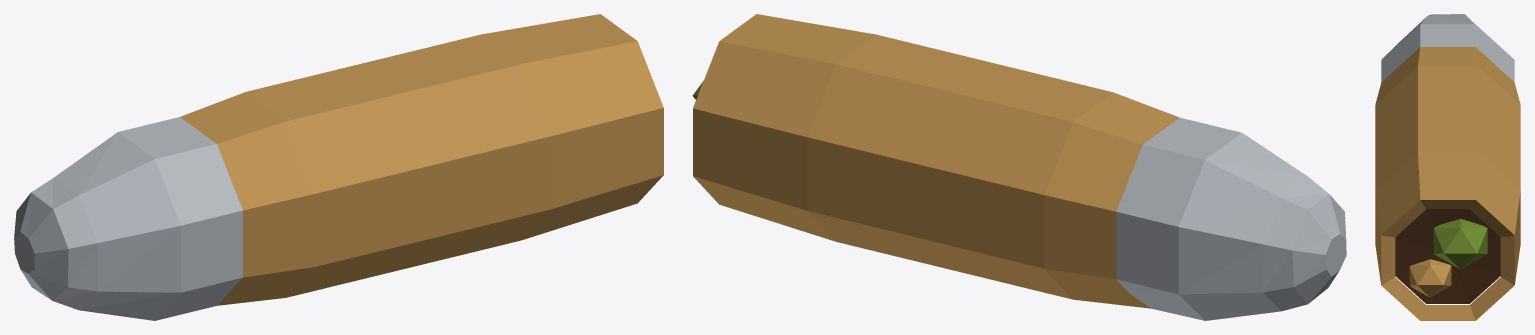
File: burrito-5208d8.glb
The picture shows the model from 3 angles, left to right: view 1: azimuth 30°, elevation 25°; view 2: azimuth 150°, elevation 25°; view 3: azimuth 270°, elevation 25°; orthographic projection. The views are drawn at different scales.
Parts seen in each view (by area): view 1: burrito; view 2: burrito; view 3: burrito.
Part boxes in pixels (x1,y1,x2,y2): burrito: (14, 14, 663, 320); burrito: (692, 14, 1346, 320); burrito: (1375, 14, 1520, 320).
Size of the model in its own units: 0.2107 by 0.0573 by 0.0573.
